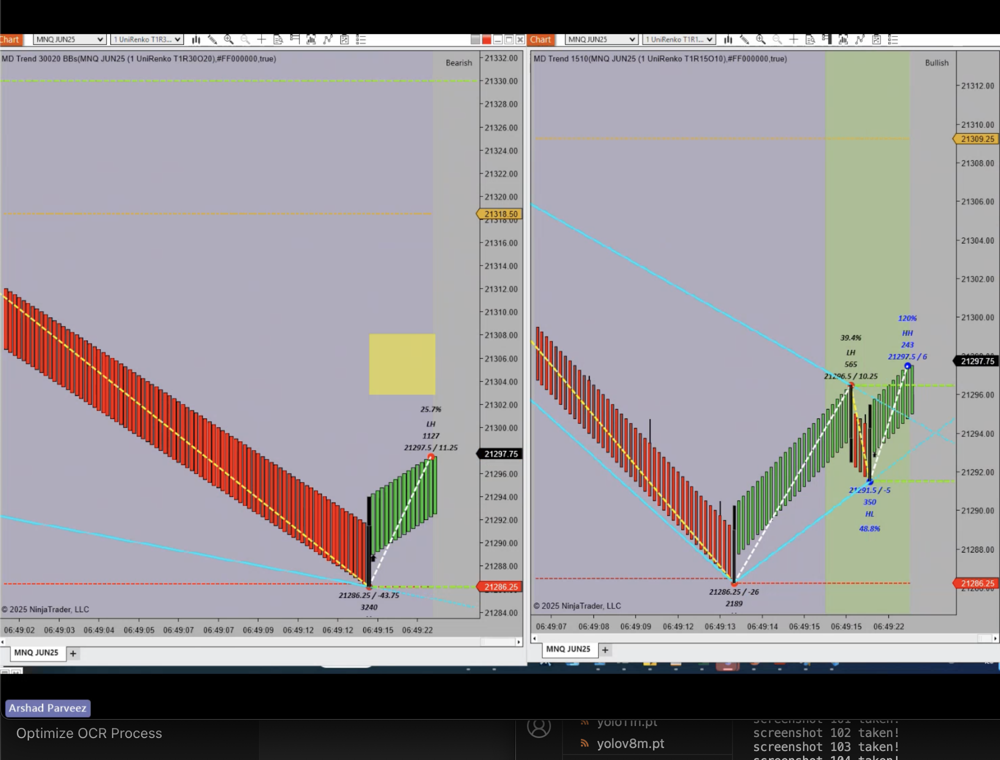HH: (895, 324, 920, 343)
HL: (859, 504, 880, 520)
LH: (419, 416, 442, 431), (841, 344, 860, 359)
